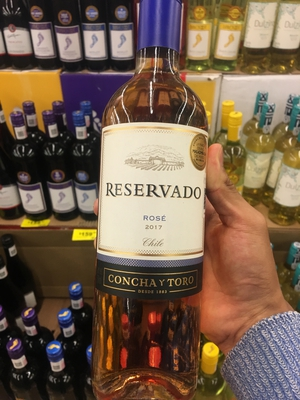reservado rose: (96, 11, 209, 394)
